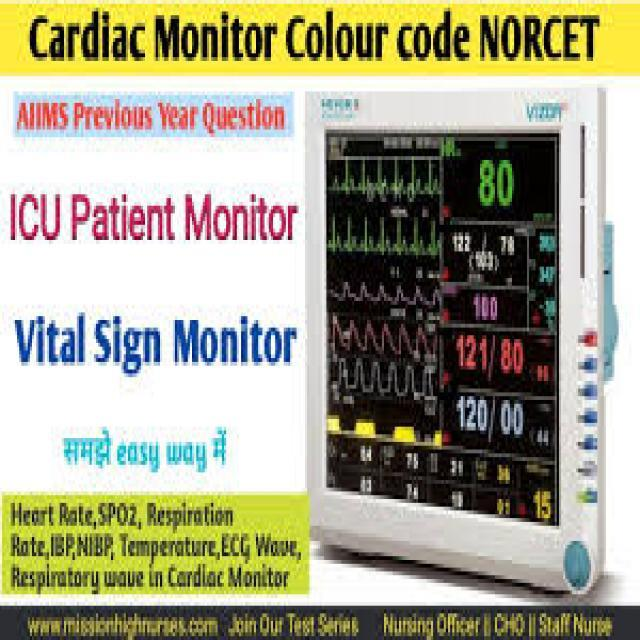cardiac_monitor: (317, 110, 588, 569)
